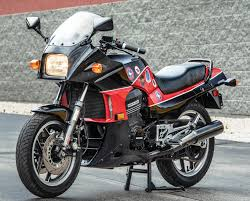motorcycle: (16, 11, 237, 201)
